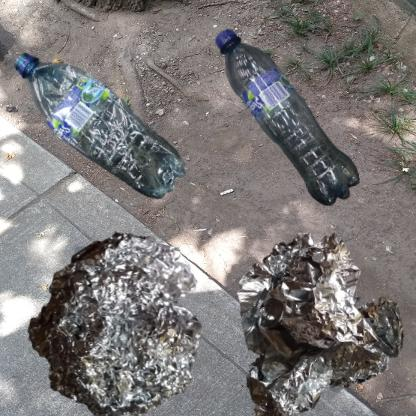aluminio: (10, 213, 231, 416), (213, 213, 416, 416)
botella: (10, 10, 237, 290), (213, 10, 375, 239)
